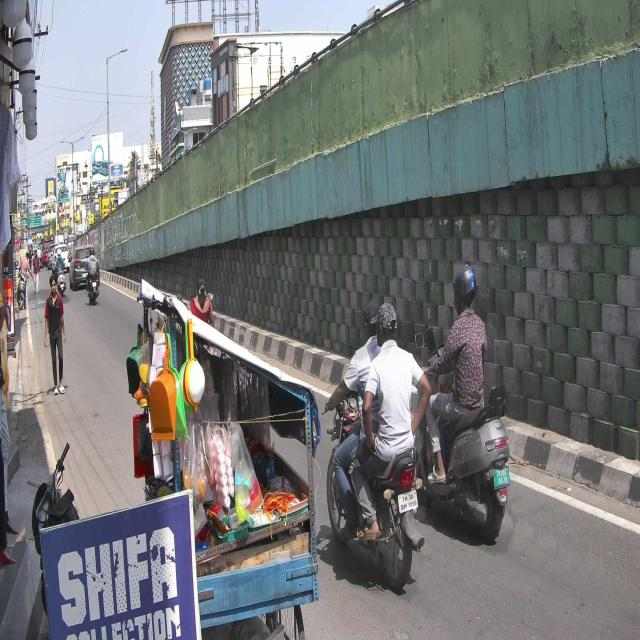double_rider: (324, 301, 422, 592)
single_rider: (428, 262, 510, 545)
